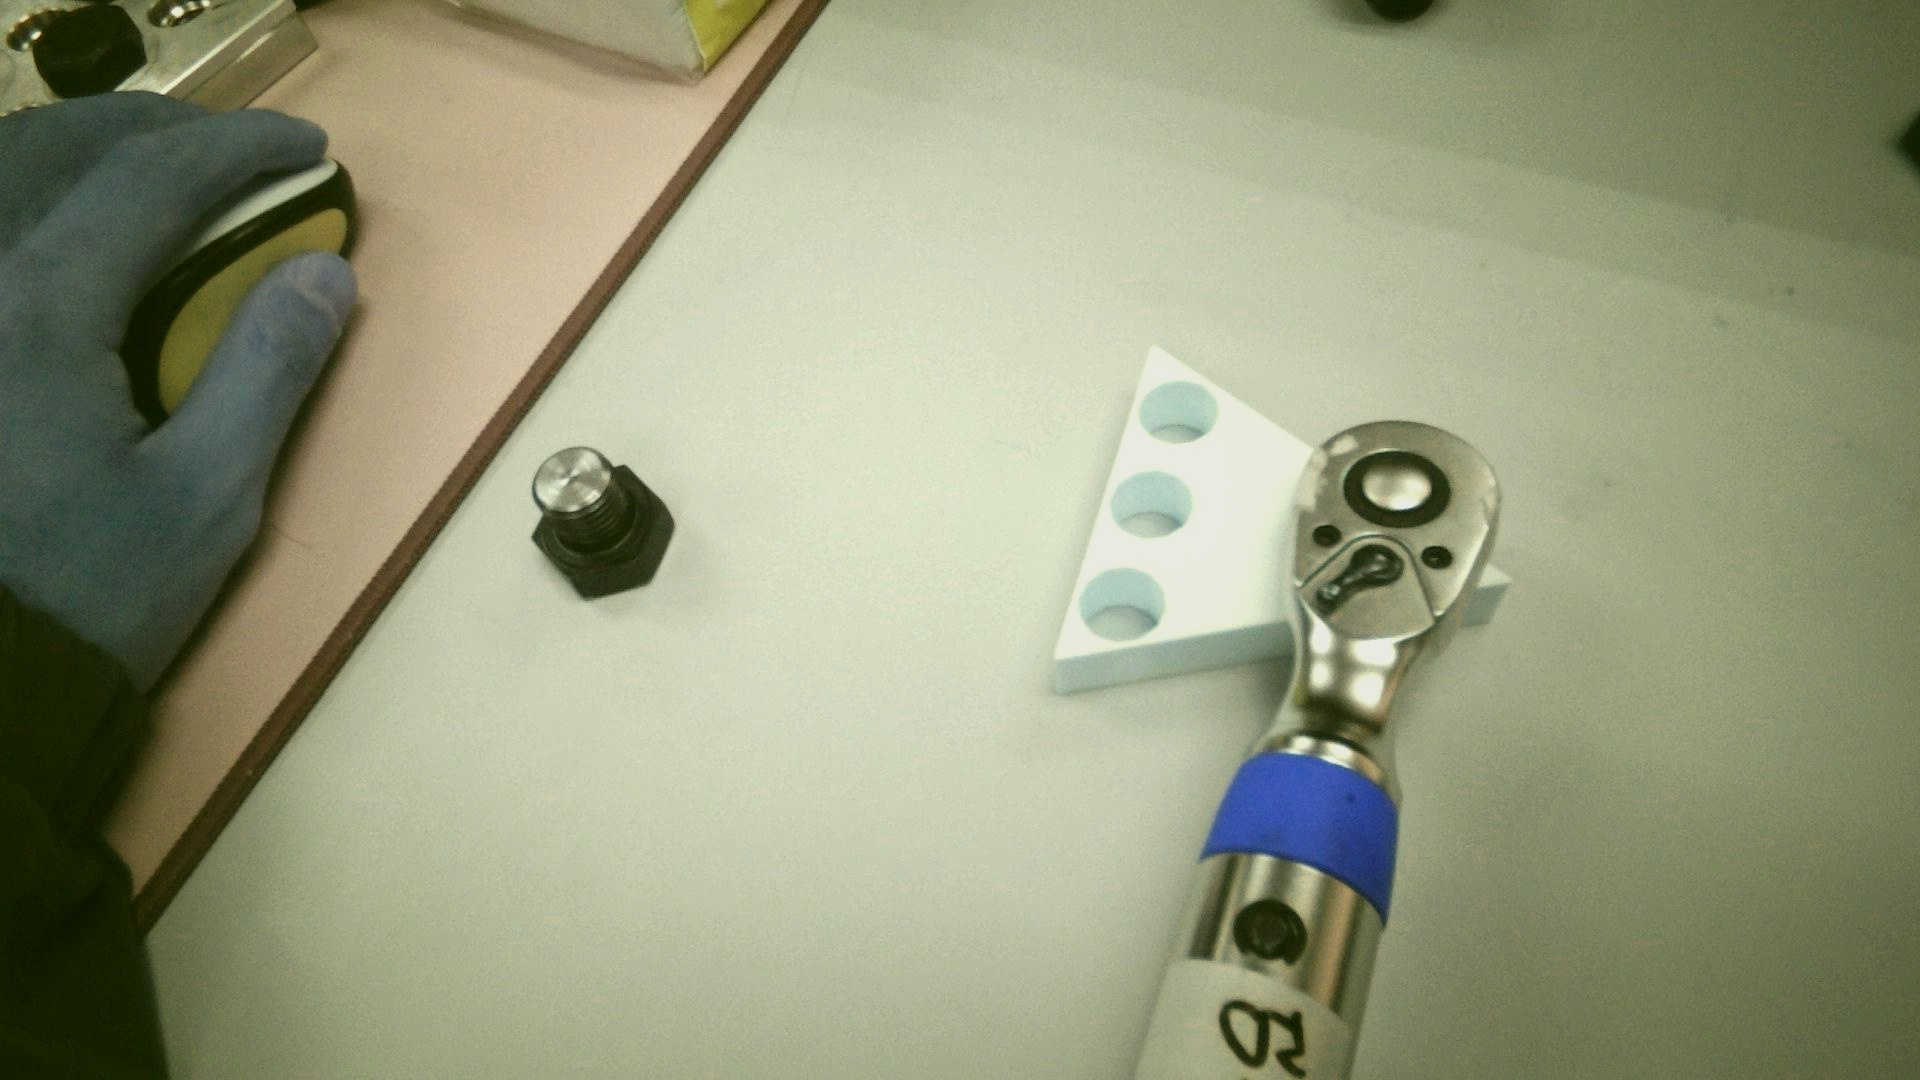hole: (1077, 567, 1166, 637), (1108, 471, 1192, 539), (1137, 381, 1218, 443)
obj: (1054, 344, 1513, 702)
wrench: (1342, 451, 1452, 530)
